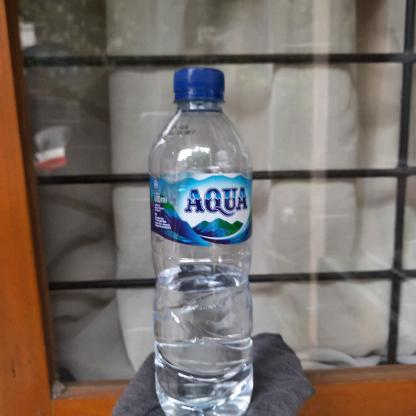Plastic Bottle: (146, 64, 258, 416)
